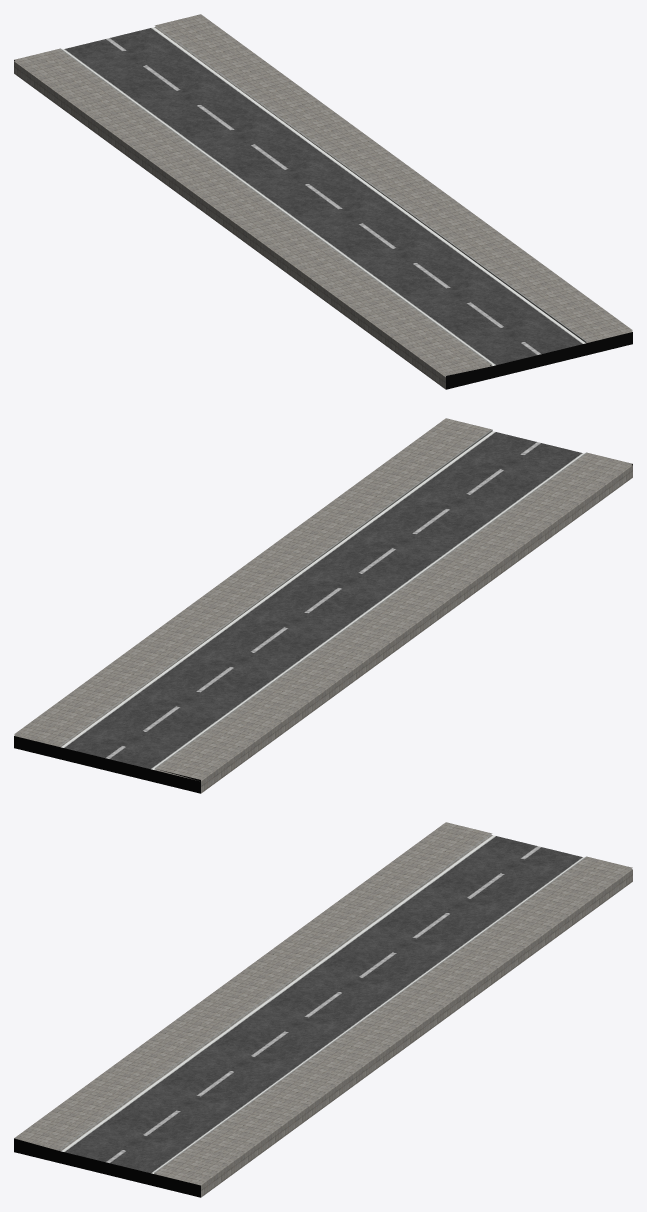
File: SingleStraightLong_3.fbx
3 views of the same model, one above another, from view 1: azimuth 30°, elevation 25°; view 2: azimuth 150°, elevation 25°; view 3: azimuth 330°, elevation 25° (orthographic).
Visible parts, largest first — view 1: materialC150, materialA150, materialB150, materialD150, materialE150; view 2: materialC150, materialA150, materialB150, materialD150, materialE150; view 3: materialC150, materialA150, materialB150, materialD150.
Part boxes in pixels (x1,y1,x2,y2): materialC150: (14,14,632,389); materialA150: (62,27,585,365); materialB150: (14,60,632,389); materialD150: (59,25,587,364); materialE150: (155,27,586,366); materialC150: (14,418,632,793); materialA150: (61,431,584,769); materialB150: (14,464,632,793); materialD150: (59,429,587,768); materialE150: (66,430,492,770); materialC150: (14,822,632,1197); materialA150: (61,835,584,1173); materialB150: (14,1138,200,1197); materialD150: (59,833,587,1172).
Size of the model in its own units: 25.6 by 1.8 by 102.
